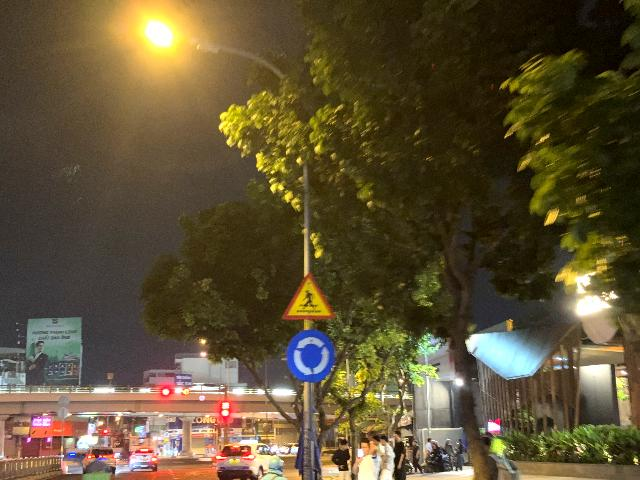duong-nguoi-di-bo-cat-ngang: (282, 273, 334, 319)
noi-giao-nhau-chay-theo-vong-xuyen: (287, 329, 333, 384)
